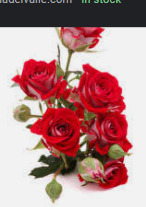RedRose: (73, 62, 126, 114), (14, 59, 69, 105), (42, 103, 80, 159), (85, 113, 134, 153), (89, 156, 132, 182)
